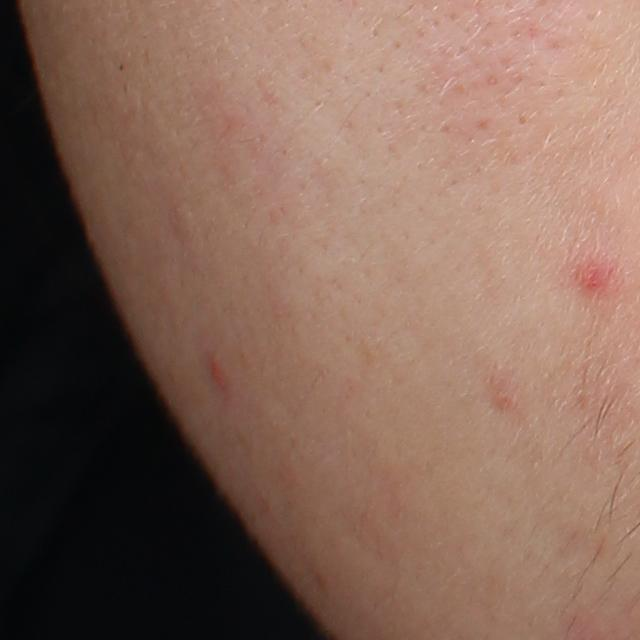papule: (580, 263, 609, 292)
